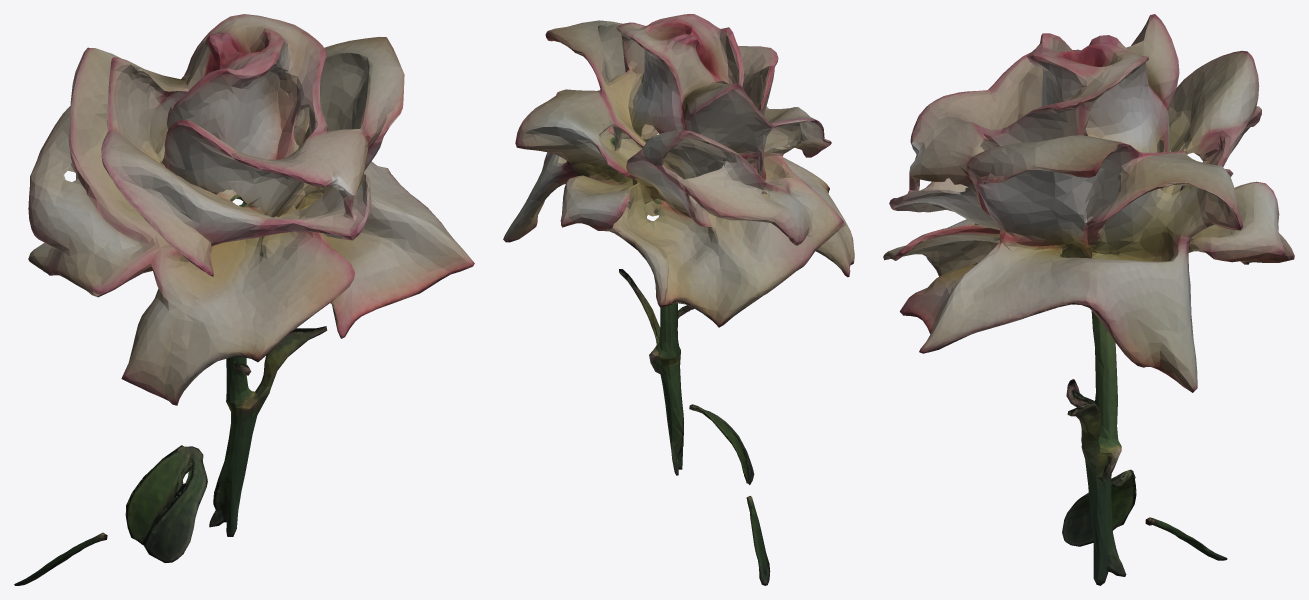
3 renders of one model, left to right at view 1: azimuth 30°, elevation 25°; view 2: azimuth 150°, elevation 25°; view 3: azimuth 270°, elevation 25°, orthographic. The views are drawn at different scales.
Parts seen in each view (by area): view 1: world; view 2: world; view 3: world.
Boxes of the visible parts, bbox=[...] form: world: bbox=[14, 14, 474, 585]; world: bbox=[503, 14, 854, 585]; world: bbox=[883, 14, 1294, 585].
Bounding box in the file's own units: 0.5704 × 0.9193 × 0.5728.
1 material, 1 textured.
